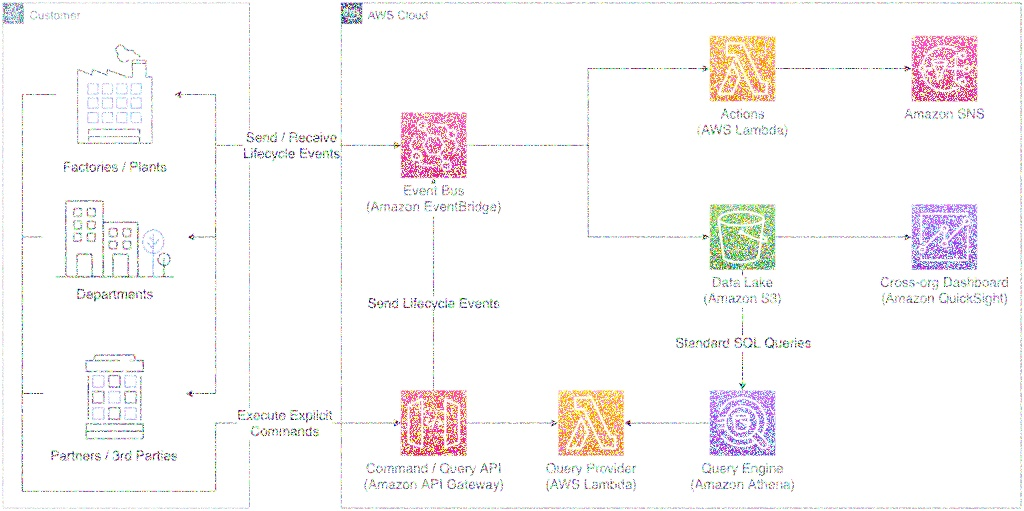API-Gateway: (399, 385, 470, 458)
Athena: (705, 384, 782, 462)
Event Bus: (399, 108, 470, 182)
Lambda: (708, 31, 777, 107), (556, 384, 627, 453)
Quicksight: (909, 200, 980, 275)
S3: (706, 200, 780, 272)
SNS: (908, 30, 981, 105)
aws: (341, 0, 363, 24)
